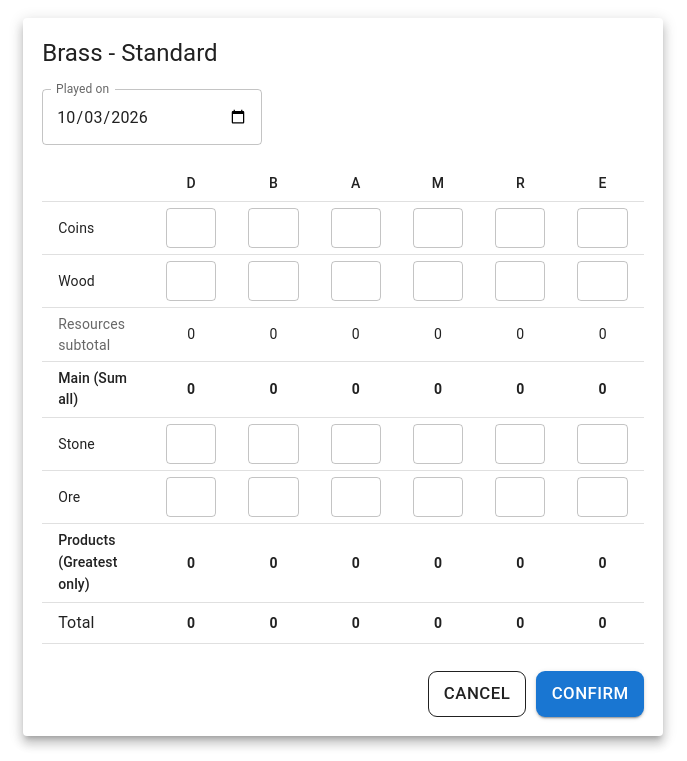
ScoreEntryScreen › recomputes group and grand totals as values are entered
Type "3" into the number field named "Coins for D" at (191, 228), box left=166, top=208, right=216, bottom=248
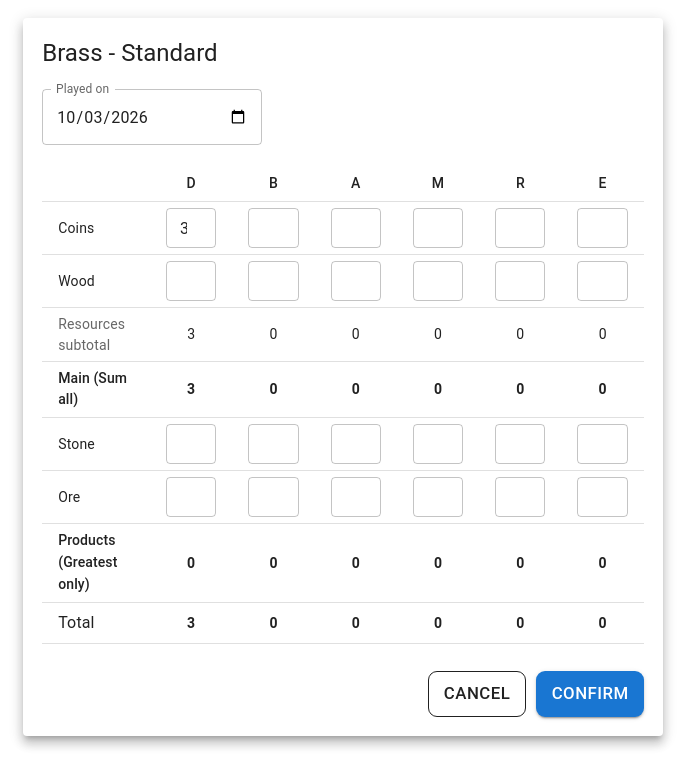
Type "4" into the number field named "Wood for D" at (191, 282), box left=166, top=262, right=216, bottom=302
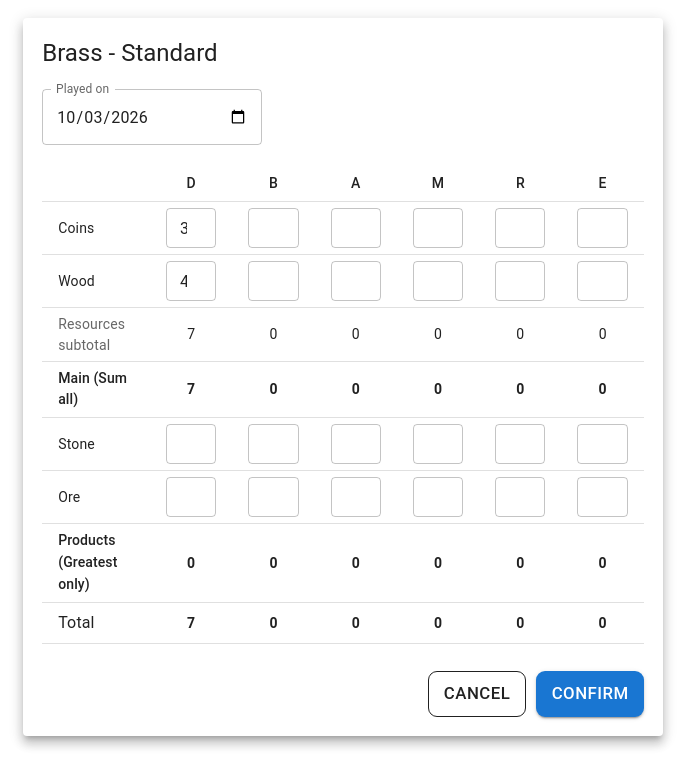
Type "2" into the number field named "Stone for D" at (191, 444), box left=166, top=424, right=216, bottom=464
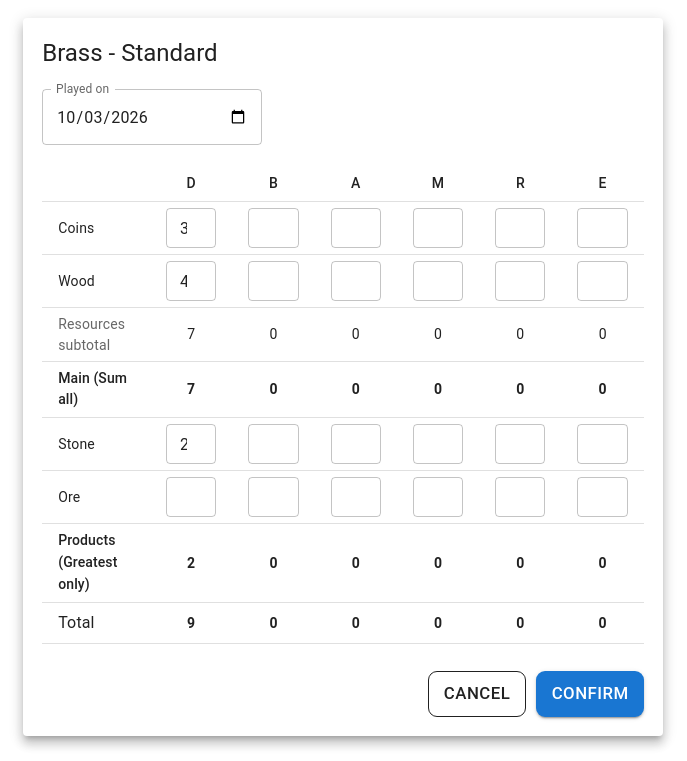
Type "9" into the number field named "Ore for D" at (191, 498), box left=166, top=478, right=216, bottom=518
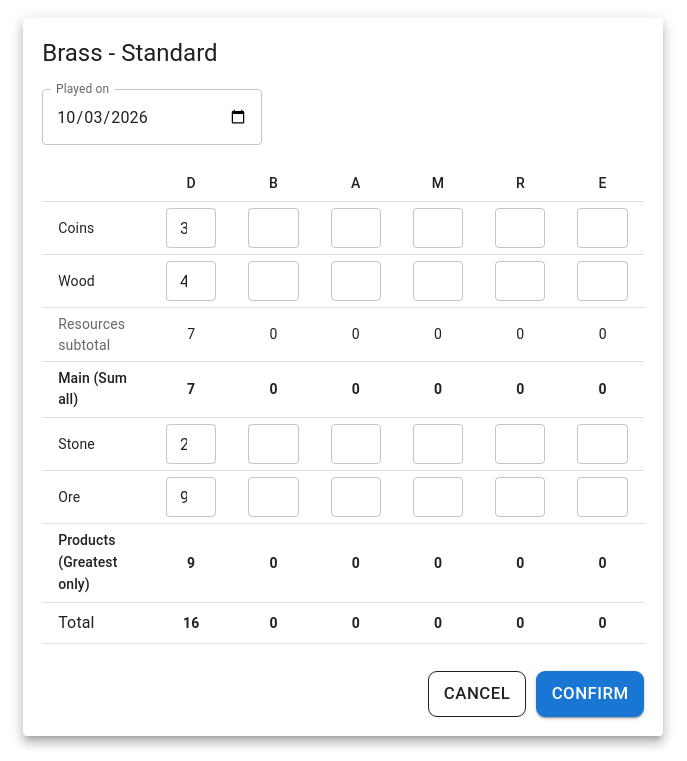
Expected: the row "Main (Sum all) 7 0 0 0 0 0" is shown, left=42, top=361, right=644, bottom=418
Expected: the row "Products (Greatest only) 9 0 0 0 0 0" is shown, left=42, top=524, right=644, bottom=603
Expected: the row "Total 16 0 0 0 0 0" is shown, left=42, top=603, right=644, bottom=644
